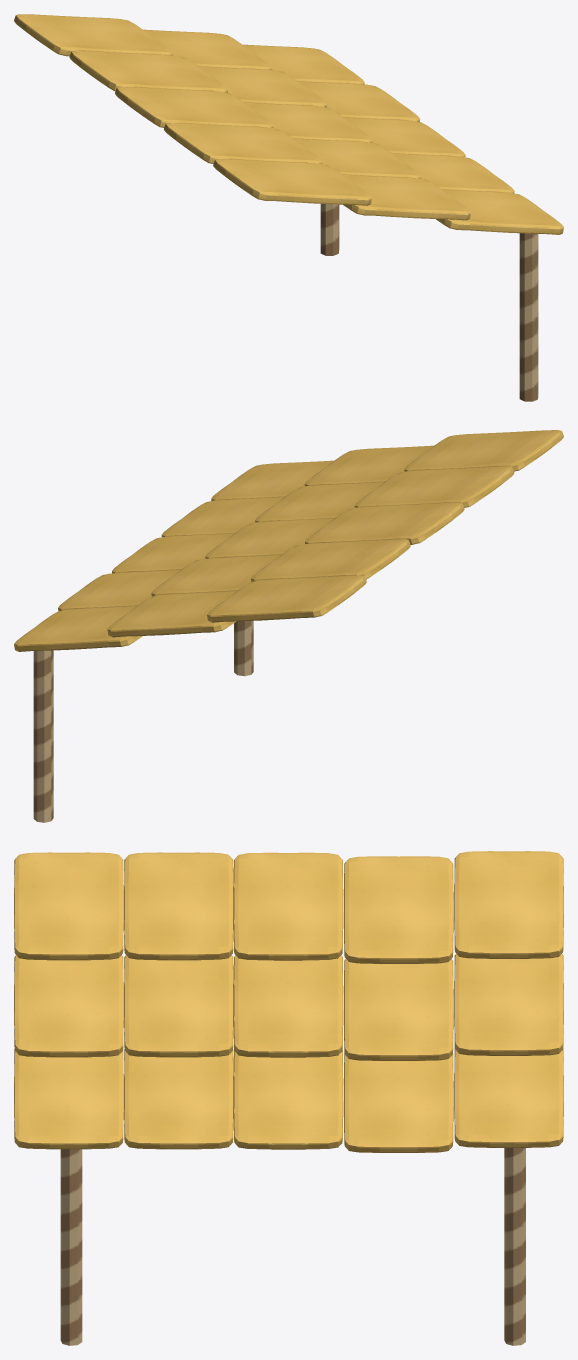
File: KrakersowyDaszek.fbx
3 renders of one model, top to bottom at view 1: azimuth 30°, elevation 25°; view 2: azimuth 150°, elevation 25°; view 3: azimuth 270°, elevation 25°, orthographic. The views are drawn at different scales.
Parts seen in each view (by area): view 1: KrakersowyDaszek; view 2: KrakersowyDaszek; view 3: KrakersowyDaszek.
Boxes of the visible parts, box(x1,y1,x2,y2) form: KrakersowyDaszek: box(14, 14, 563, 401); KrakersowyDaszek: box(14, 430, 563, 822); KrakersowyDaszek: box(14, 851, 563, 1345).
Size of the model in its own units: 745 by 664 by 1005.
Materials: 2 (2 with a texture image).
